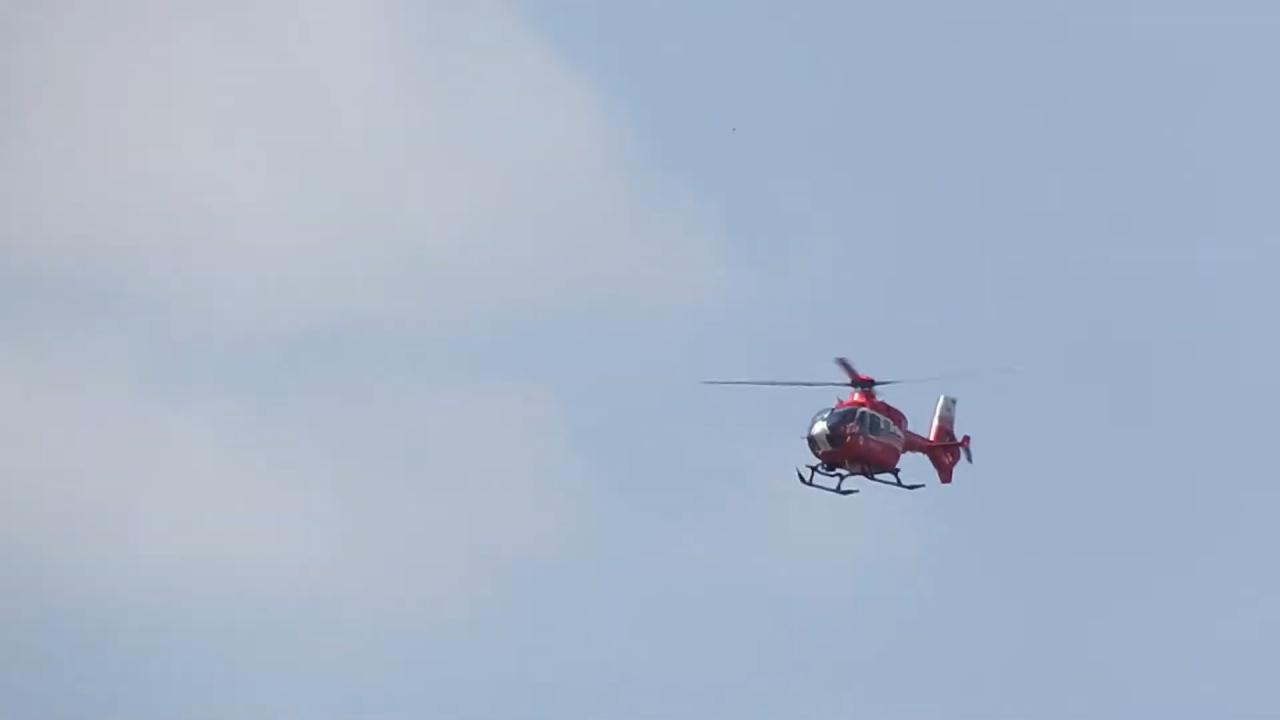Helicopter: (684, 323, 1027, 529)
